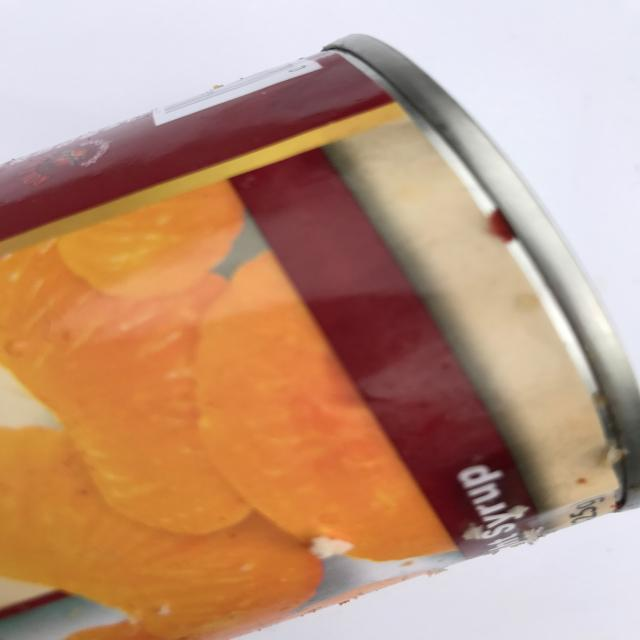metal: (1, 31, 638, 636)
